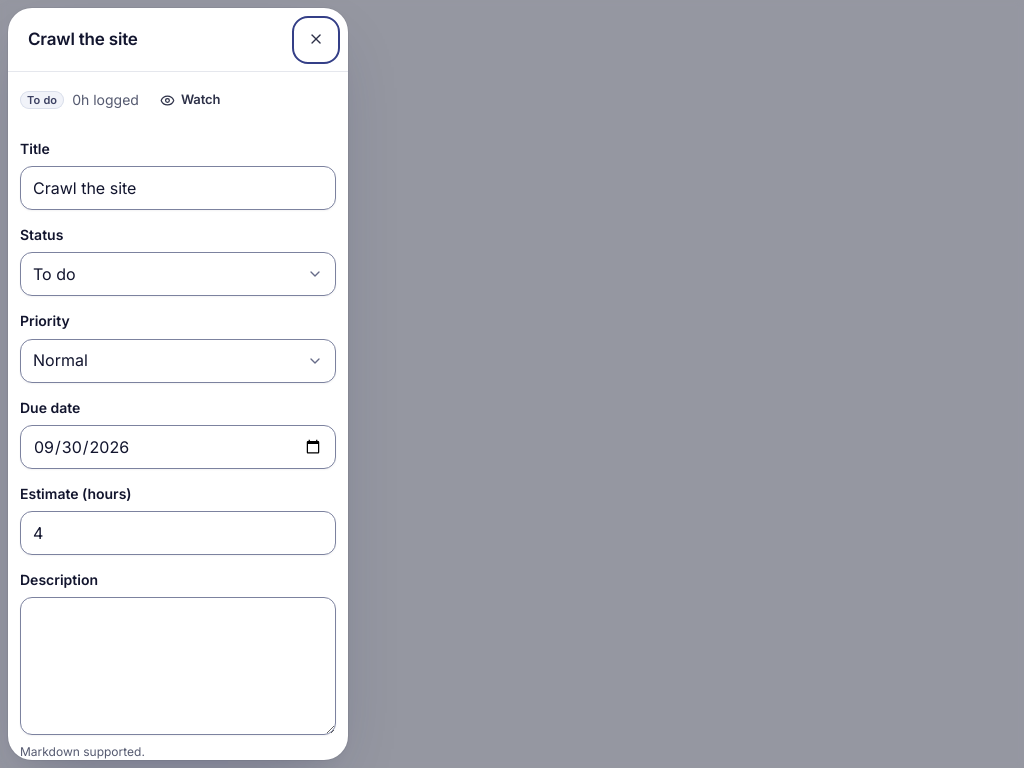
Task drawer › confirms a saved task
Replace the text in the field labelled "Title" with "Renamed task": (178, 188) [20, 166, 336, 210]
(page scrolled)
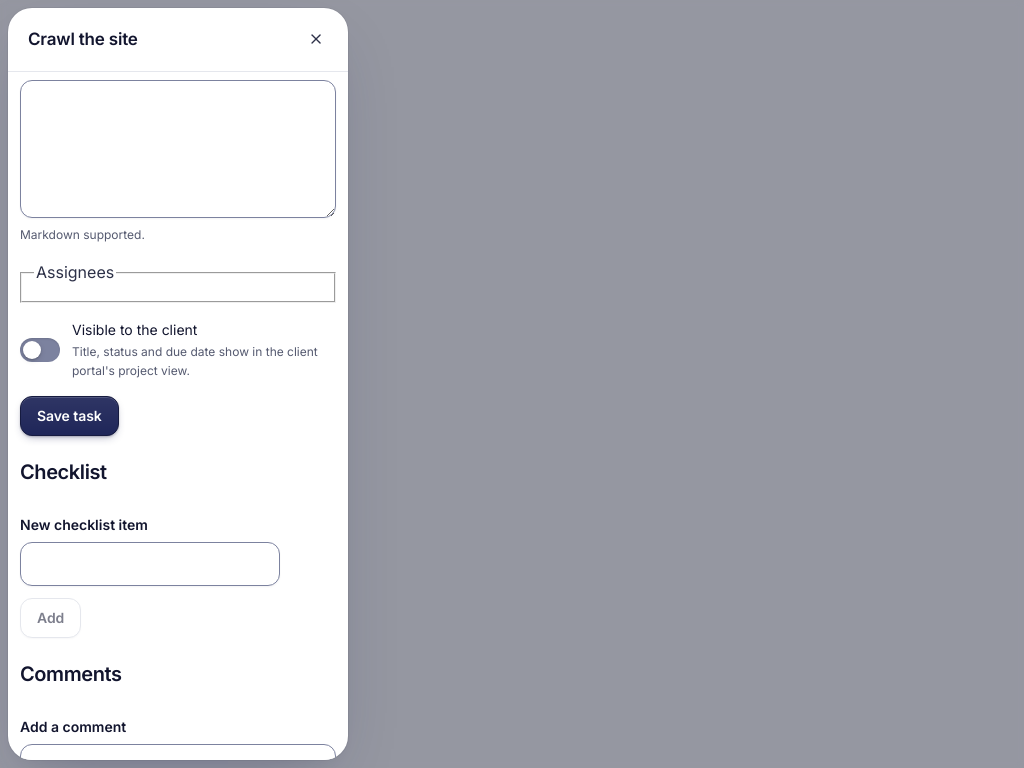
Click the button "Save task": (69, 416) [20, 396, 119, 436]
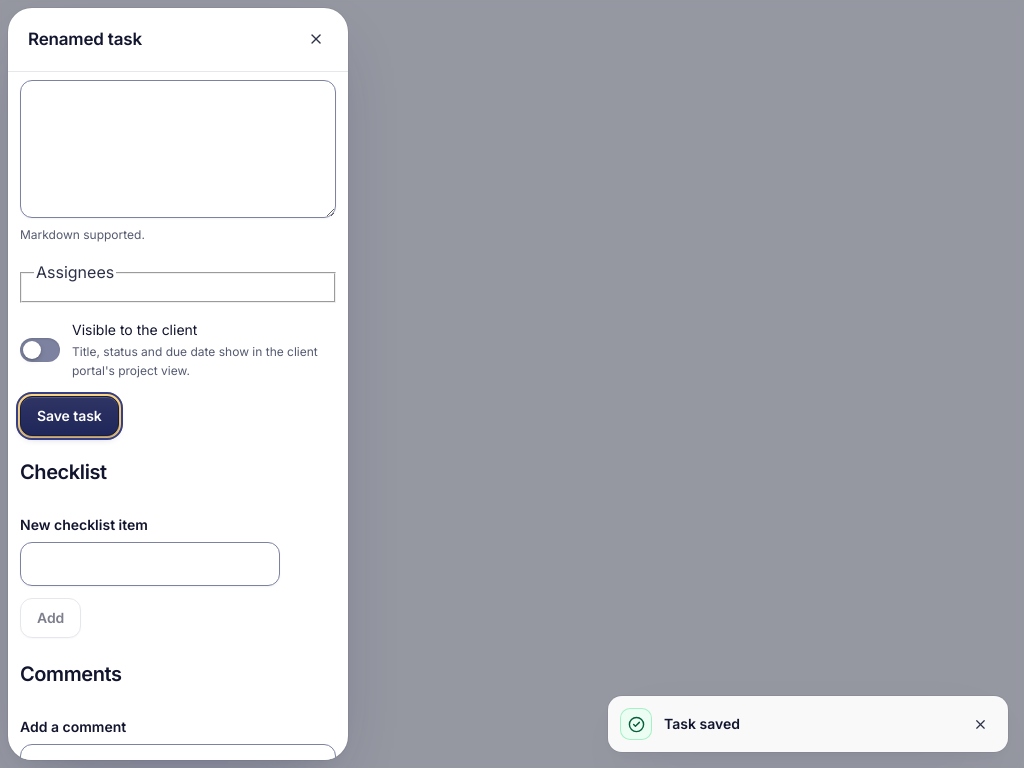
Now the text "Task saved" is shown, box [664, 715, 740, 732]
